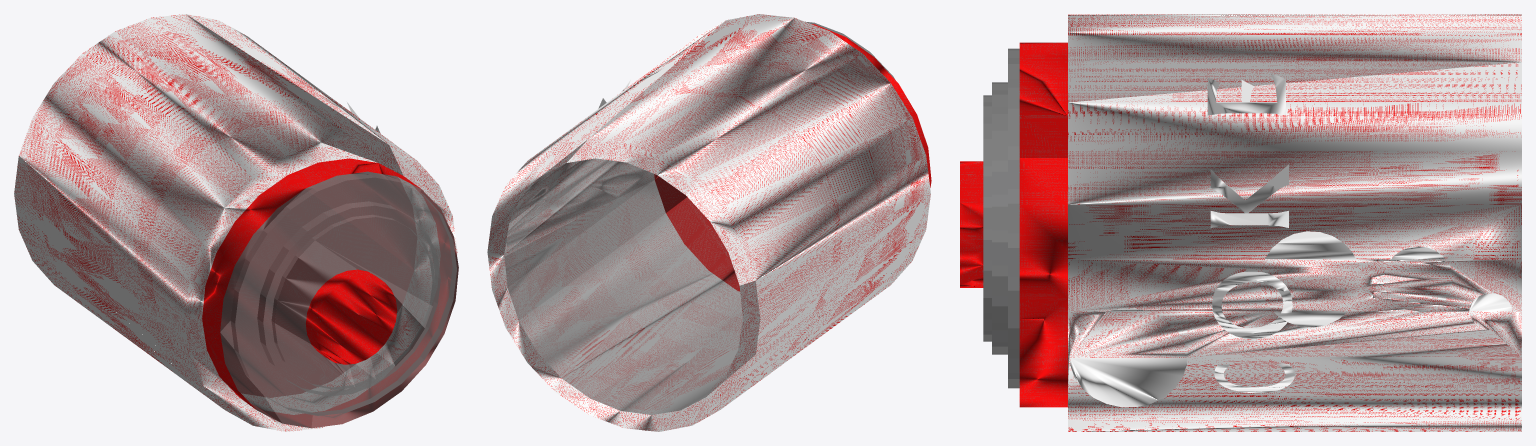
Rendered from model_align.obj.
3 views of the same model, side by side, from view 1: azimuth 30°, elevation 25°; view 2: azimuth 150°, elevation 25°; view 3: azimuth 270°, elevation 25° (orthographic). The views are drawn at different scales.
Size of the model in its own units: 0.0858 by 0.083 by 0.1112.
